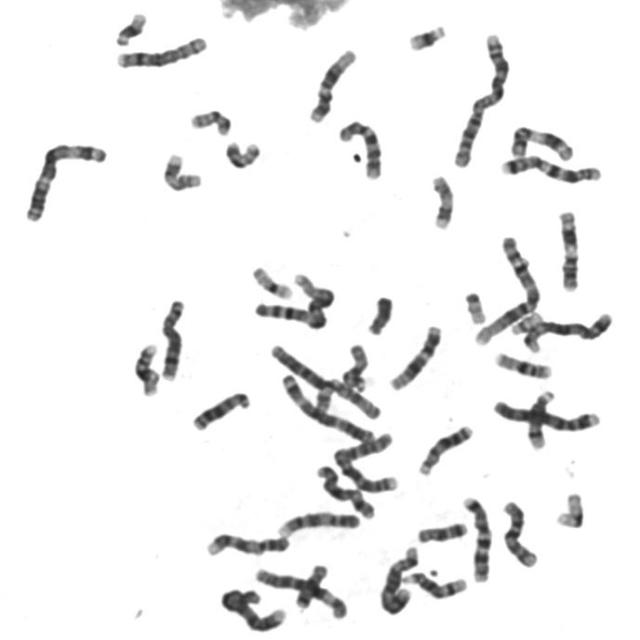A1: (468, 230, 543, 347), (249, 268, 337, 331)
A2: (446, 27, 512, 170), (329, 426, 402, 495)
A3: (19, 136, 110, 224), (275, 368, 378, 445)
B4: (487, 394, 604, 433), (215, 583, 289, 634)
B5: (519, 306, 616, 354), (374, 541, 421, 616)
C10: (333, 114, 385, 182), (497, 494, 541, 570)
C11: (505, 120, 577, 163), (554, 205, 584, 294)
C12: (304, 42, 359, 124), (384, 319, 445, 392)
C6: (250, 562, 350, 622), (268, 340, 338, 417)
C7: (495, 149, 605, 185), (458, 490, 495, 585)
C8: (111, 30, 210, 70), (154, 292, 189, 383)
C9: (272, 506, 362, 539), (201, 527, 293, 559)
D13: (413, 418, 476, 478), (187, 385, 253, 433)
D14: (398, 566, 471, 601), (522, 384, 559, 452)
D15: (326, 374, 387, 423), (334, 341, 372, 399)
E16: (490, 346, 556, 380), (128, 338, 164, 398)
E17: (157, 147, 205, 193), (425, 169, 457, 231)
E18: (290, 559, 330, 610), (413, 516, 470, 544)
F19: (246, 260, 296, 301), (551, 486, 588, 530)
F20: (184, 103, 234, 137), (220, 135, 264, 170)
G21: (109, 6, 149, 48), (402, 18, 449, 53)
G22: (507, 306, 545, 337), (459, 286, 488, 326)
X: (312, 459, 378, 520)
Y: (362, 291, 396, 337)
